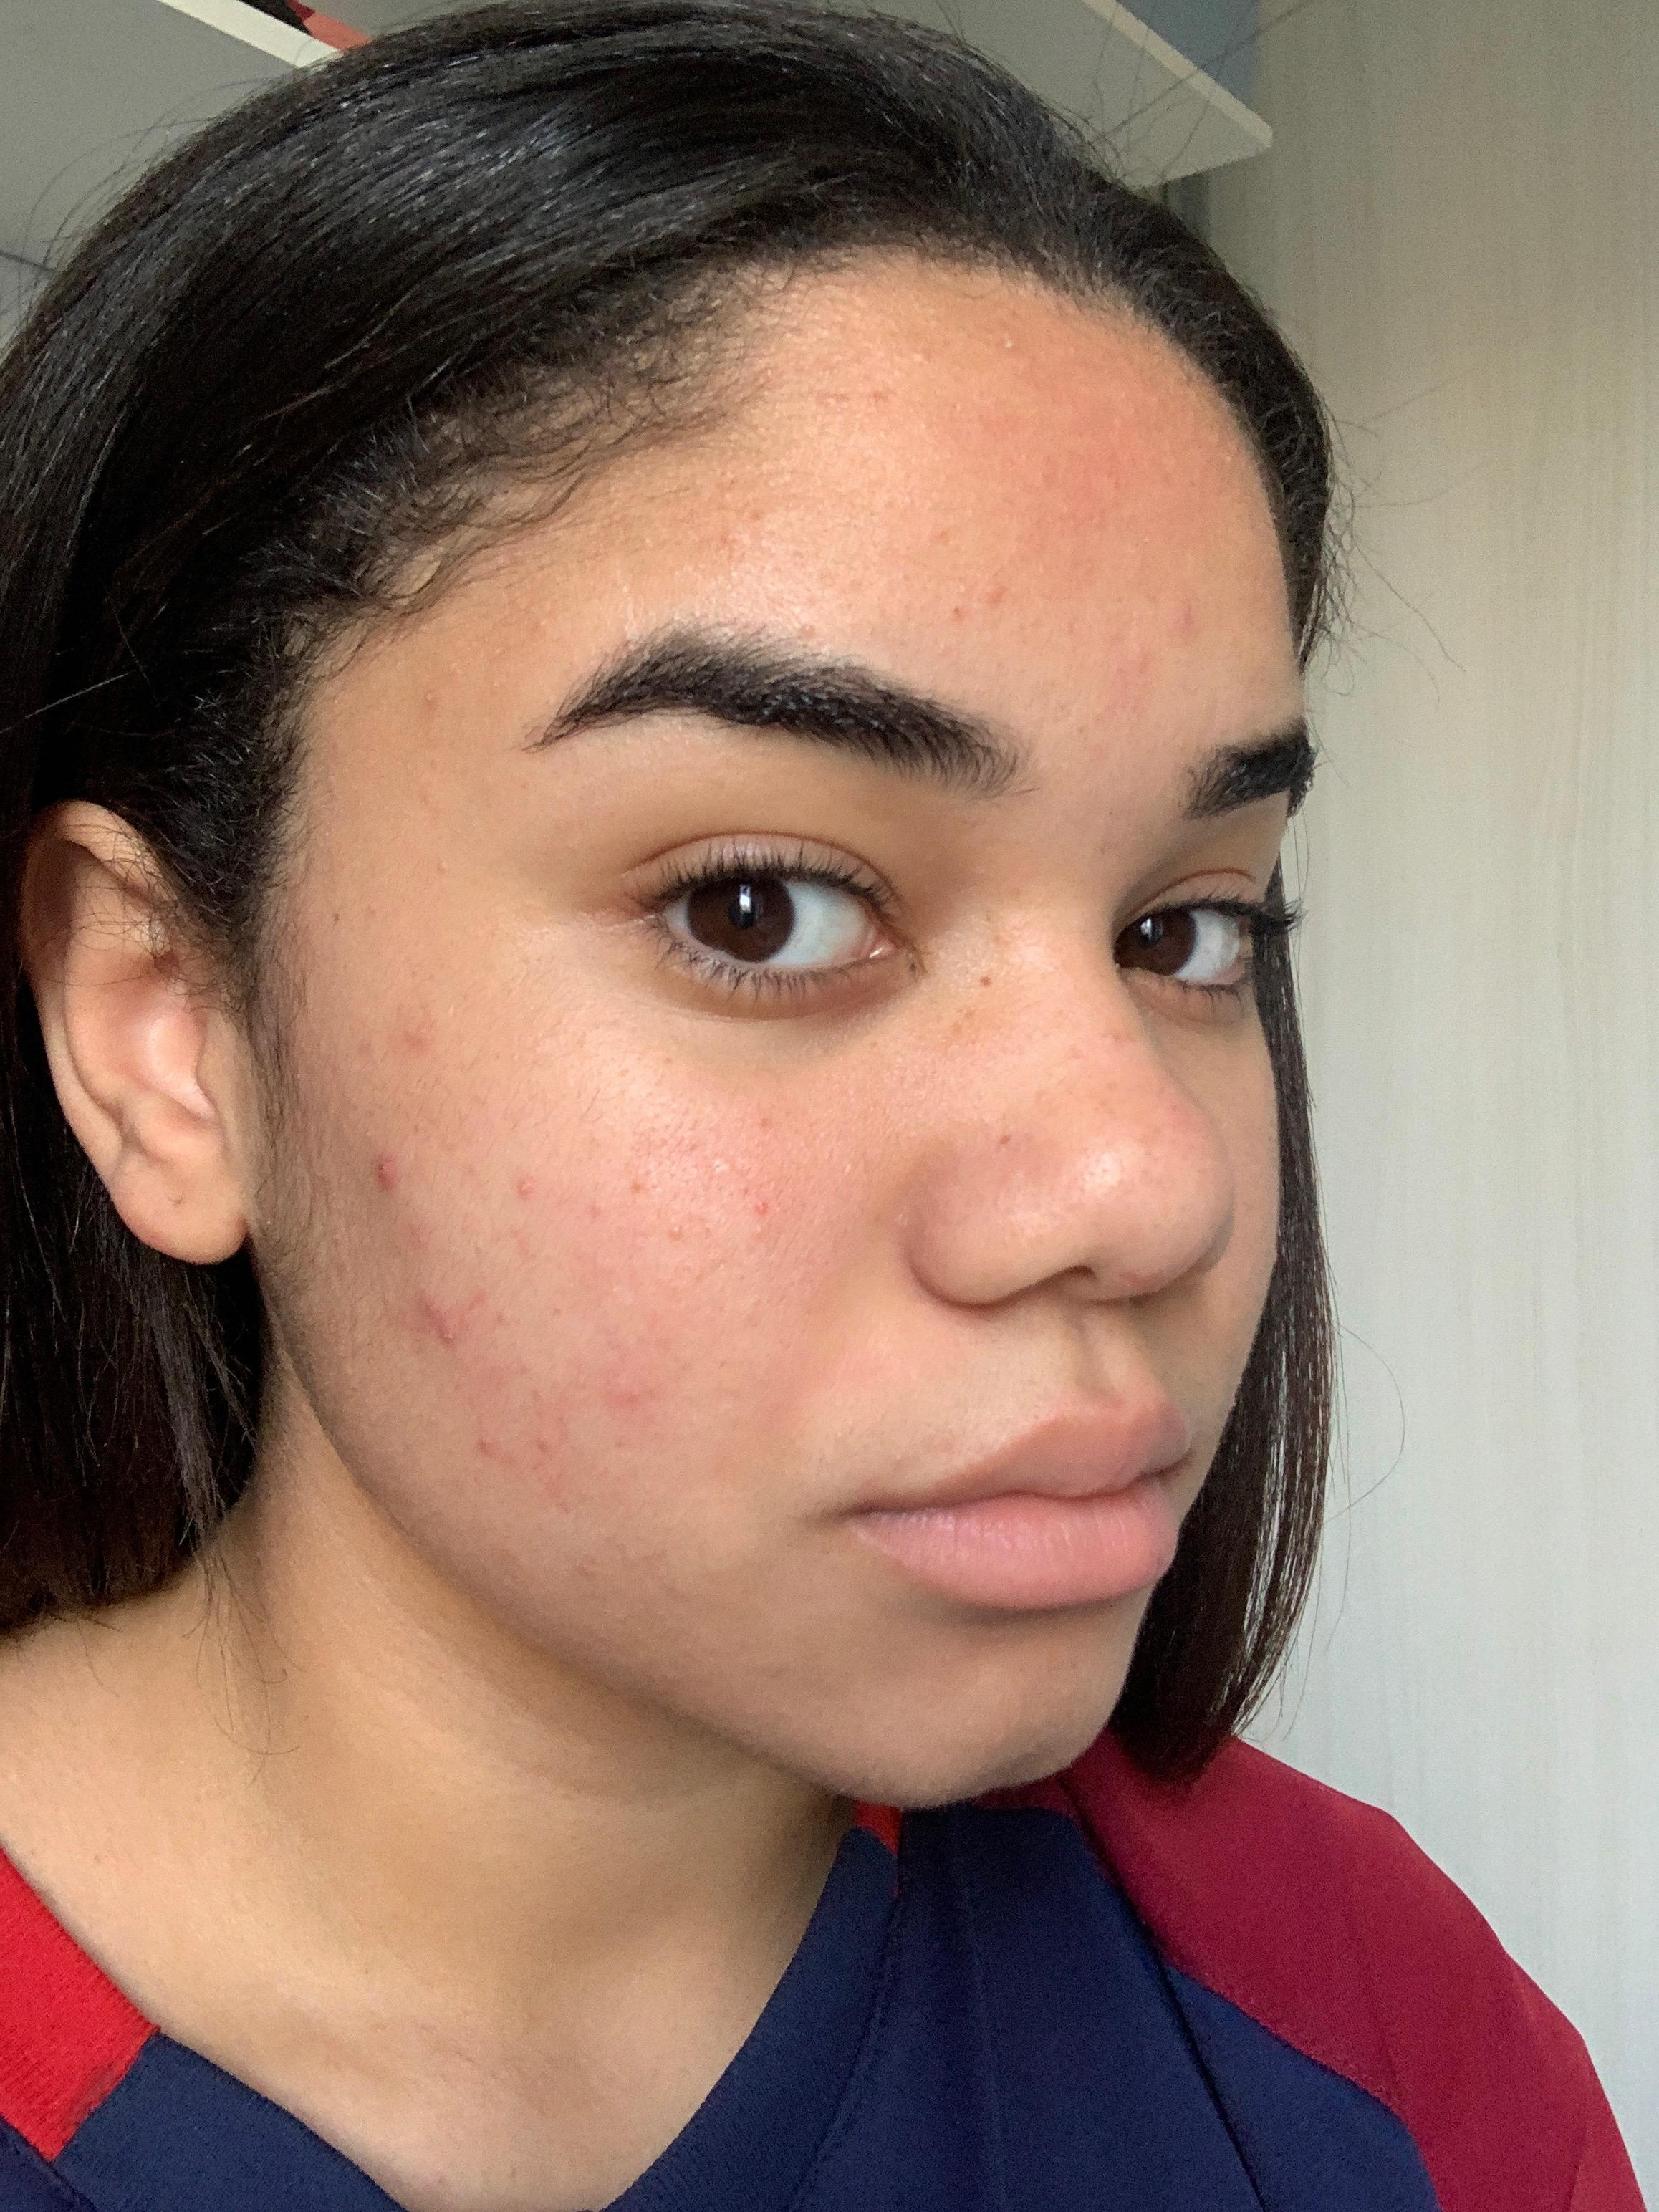Acne: (401, 1292, 488, 1346), (355, 1150, 406, 1202), (816, 385, 894, 416), (467, 1421, 514, 1467), (884, 493, 932, 535), (706, 531, 751, 571), (1122, 636, 1159, 685), (488, 1294, 532, 1329), (561, 1555, 601, 1592), (509, 1357, 544, 1399), (392, 1224, 441, 1254), (345, 1029, 378, 1073), (532, 1428, 572, 1463), (741, 1191, 788, 1221), (976, 575, 1025, 603), (622, 1386, 660, 1421), (354, 897, 394, 930), (939, 590, 976, 625), (397, 1028, 439, 1057), (739, 503, 774, 538), (504, 1174, 538, 1204), (575, 1197, 620, 1219), (662, 1217, 695, 1247), (423, 855, 460, 880), (418, 681, 448, 711), (1182, 603, 1204, 641), (993, 340, 1023, 368), (624, 1174, 653, 1198), (547, 1301, 575, 1325), (781, 627, 833, 639)
Blackheads: (1070, 1143, 1136, 1205)
Englarged-Pores: (739, 1238, 836, 1331), (817, 1120, 878, 1186)
